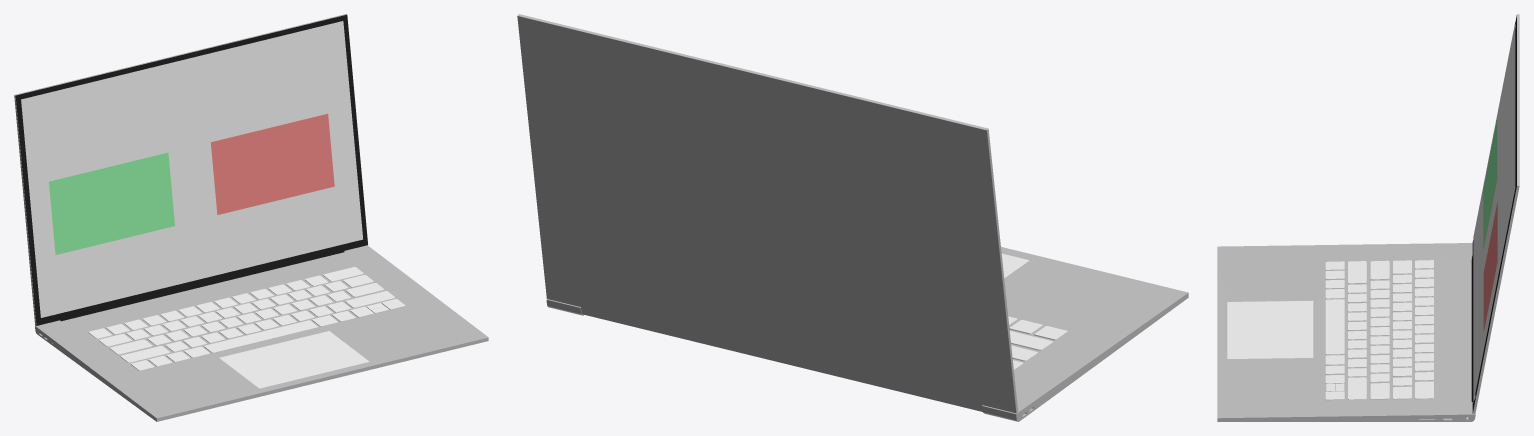
The model's file is laptop-sq-buttons.glb.
3 views of the same model, side by side, from view 1: azimuth 30°, elevation 25°; view 2: azimuth 150°, elevation 25°; view 3: azimuth 270°, elevation 25° (orthographic). The views are drawn at different scales.
Visible parts, largest first — view 1: Plane, Silver colour Cover, Keyboard, Plane.001, Plane.002, Display; view 2: Display, Silver colour Cover, Keyboard; view 3: Silver colour Cover, Keyboard, Plane, Display, Plane.001, Plane.002.
Boxes of the visible parts, x1=… form: Plane: x1=21, y1=21, x2=363, y2=317; Silver colour Cover: x1=35, y1=245, x2=488, y2=421; Keyboard: x1=88, y1=267, x2=405, y2=370; Plane.001: x1=49, y1=152, x2=174, y2=254; Plane.002: x1=210, y1=113, x2=334, y2=214; Display: x1=14, y1=14, x2=368, y2=325; Display: x1=517, y1=14, x2=1017, y2=413; Silver colour Cover: x1=546, y1=247, x2=1188, y2=421; Keyboard: x1=1008, y1=316, x2=1067, y2=370; Silver colour Cover: x1=1217, y1=243, x2=1475, y2=421; Keyboard: x1=1325, y1=260, x2=1433, y2=400; Plane: x1=1473, y1=22, x2=1515, y2=402; Display: x1=1471, y1=14, x2=1519, y2=413; Plane.001: x1=1483, y1=118, x2=1497, y2=249; Plane.002: x1=1483, y1=202, x2=1497, y2=332.
Size of the model in its own units: 0.38 by 0.2452 by 0.2828.
